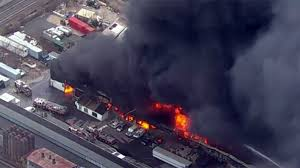smoke: (136, 2, 299, 100)
